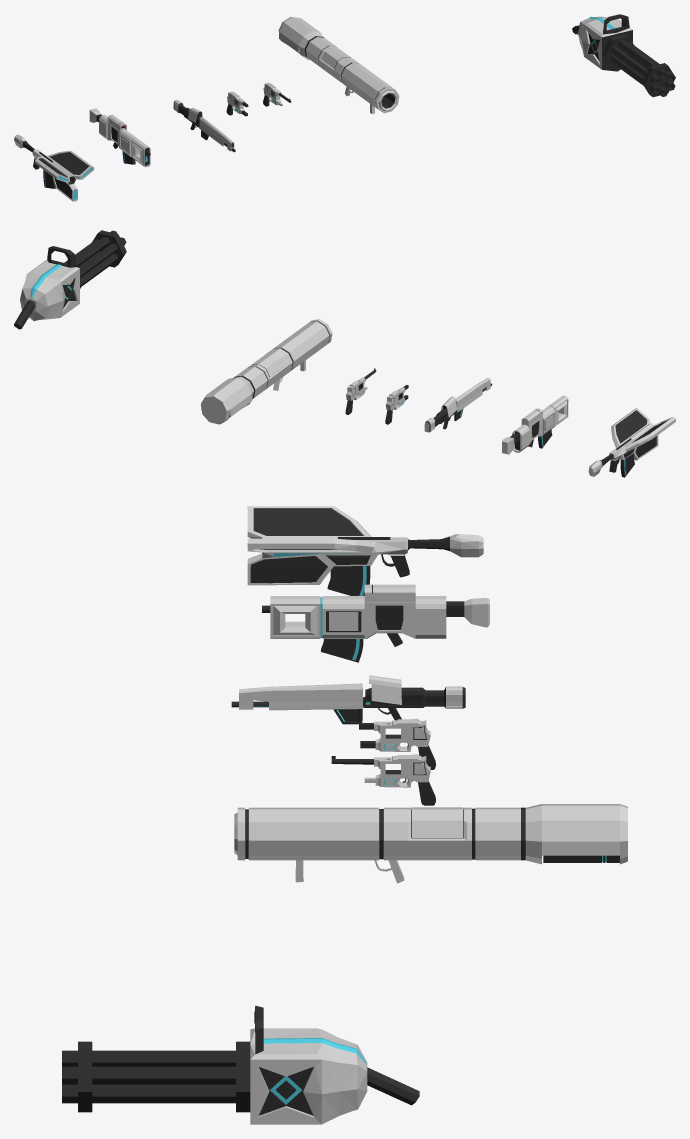
File: Sci-fi Weapons.fbx
3 renders of one model, top to bottom at view 1: azimuth 30°, elevation 25°; view 2: azimuth 150°, elevation 25°; view 3: azimuth 270°, elevation 25°, orthographic. The views are drawn at different scales.
Parts seen in each view (by area): view 1: CY - 2, FIring Cylinders, NK-5, Gatling Gun, AC - 13, J9, Pistol 1, Stun Gun; view 2: CY - 2, Gatling Gun, NK-5, AC - 13, FIring Cylinders, J9, Pistol 1, Stun Gun; view 3: CY - 2, Gatling Gun, FIring Cylinders, NK-5, AC - 13, J9, Pistol 1, Stun Gun, NK-5 Clip.
Boxes of the visible parts, x1=… form: CY - 2: x1=278, y1=17, x2=399, y2=113; FIring Cylinders: x1=602, y1=34, x2=675, y2=97; NK-5: x1=14, y1=134, x2=94, y2=201; Gatling Gun: x1=572, y1=14, x2=632, y2=71; AC - 13: x1=89, y1=108, x2=150, y2=167; J9: x1=173, y1=100, x2=235, y2=152; Pistol 1: x1=263, y1=82, x2=291, y2=106; Stun Gun: x1=226, y1=91, x2=248, y2=116; CY - 2: x1=201, y1=319, x2=332, y2=424; Gatling Gun: x1=14, y1=246, x2=79, y2=329; NK-5: x1=588, y1=408, x2=675, y2=476; AC - 13: x1=502, y1=395, x2=568, y2=454; FIring Cylinders: x1=64, y1=230, x2=126, y2=288; J9: x1=424, y1=378, x2=492, y2=432; Pistol 1: x1=345, y1=368, x2=376, y2=414; Stun Gun: x1=385, y1=385, x2=408, y2=424; CY - 2: x1=234, y1=804, x2=627, y2=883; Gatling Gun: x1=250, y1=1005, x2=419, y2=1124; FIring Cylinders: x1=62, y1=1041, x2=250, y2=1112; NK-5: x1=247, y1=506, x2=483, y2=585; AC - 13: x1=262, y1=584, x2=489, y2=646; J9: x1=231, y1=675, x2=465, y2=720; Pistol 1: x1=331, y1=754, x2=435, y2=805; Stun Gun: x1=359, y1=718, x2=435, y2=769; NK-5 Clip: x1=327, y1=566, x2=370, y2=595.
Bounding box in the file's own units: 747 × 71.17 × 316.
